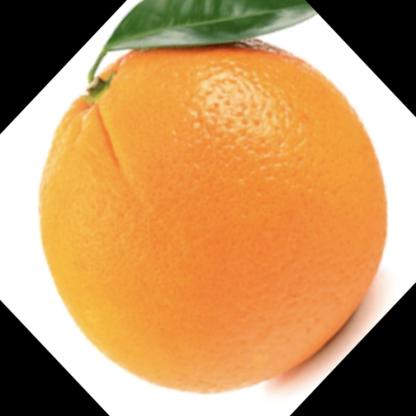fresh: (40, 33, 388, 393)
